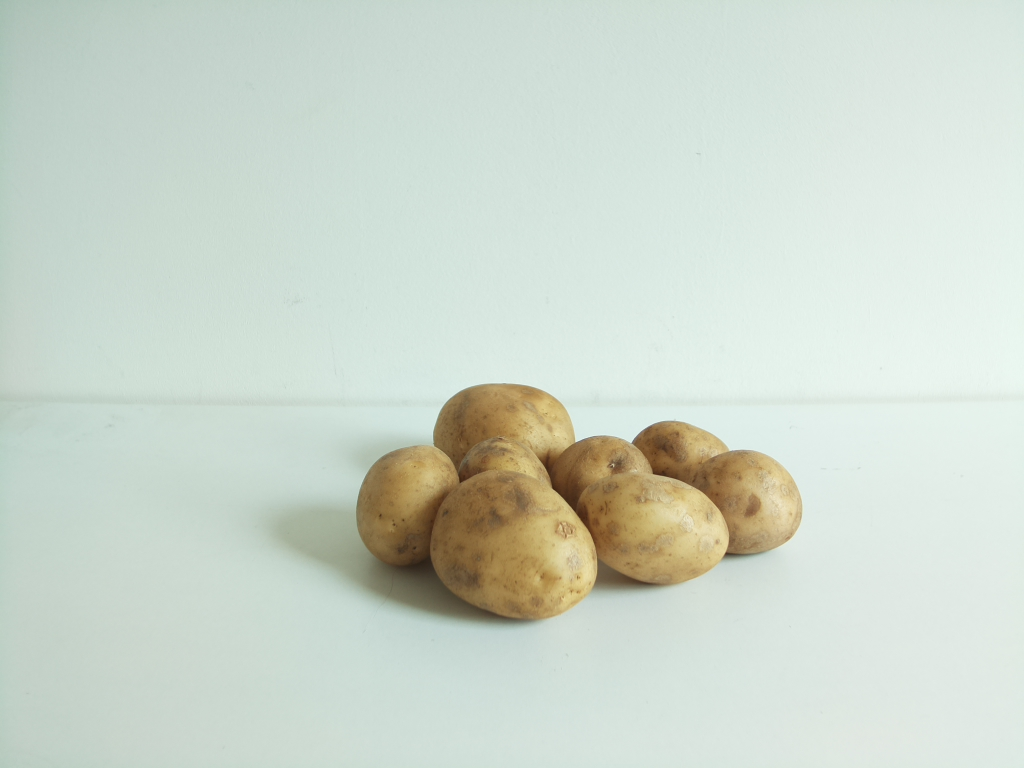potatoes: (359, 384, 805, 626)
